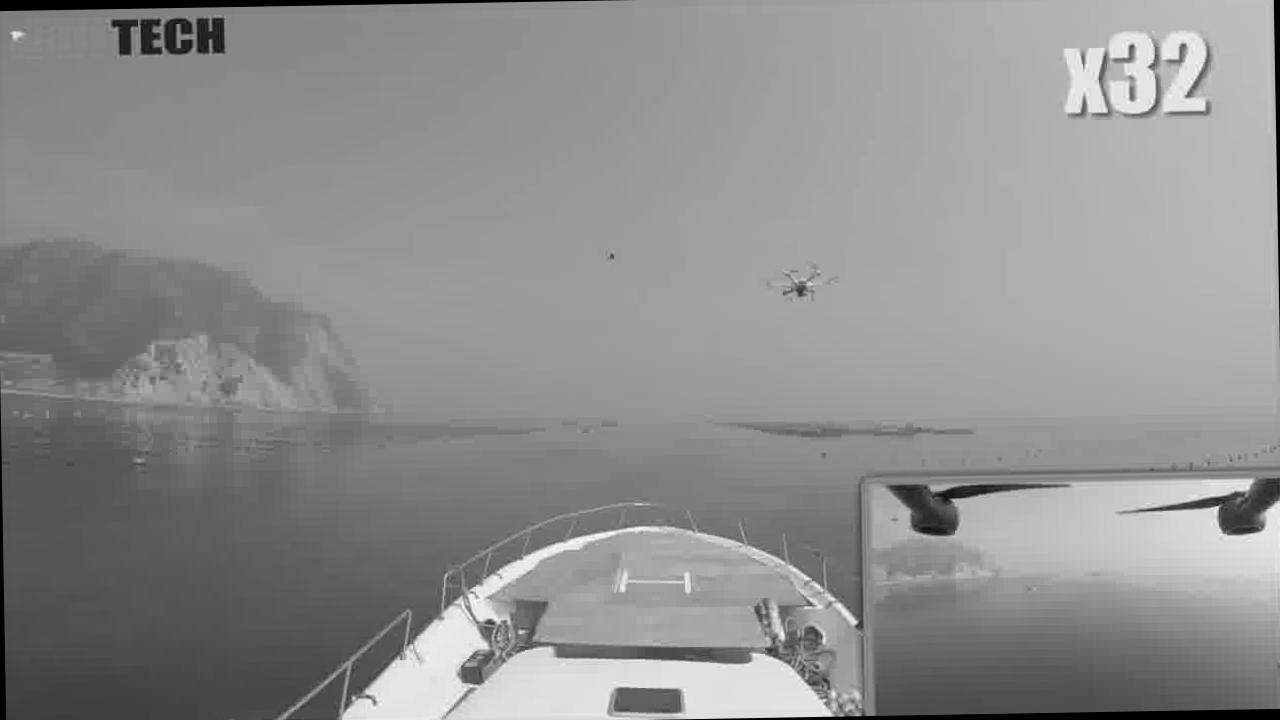drone: (756, 252, 843, 320)
